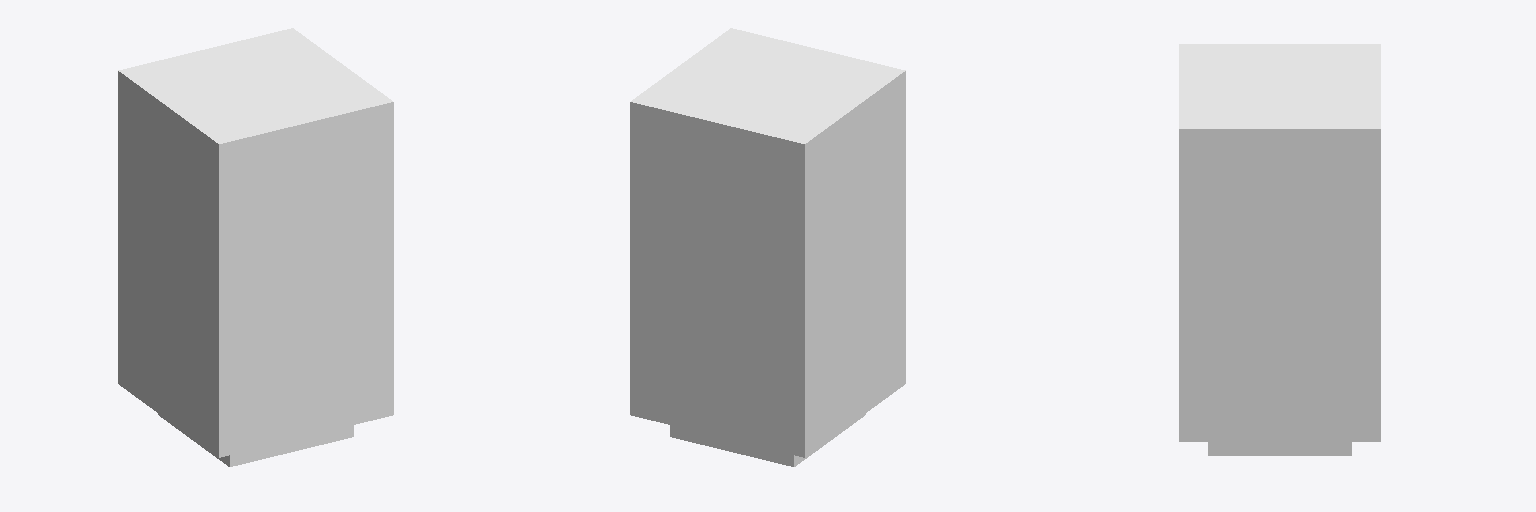
The model's file is FFrightfootdown.obj.
3 views of the same model, side by side, from view 1: azimuth 30°, elevation 25°; view 2: azimuth 150°, elevation 25°; view 3: azimuth 270°, elevation 25° (orthographic).
Parts seen in each view (by area): view 1: object 1; view 2: object 1; view 3: object 1.
Part boxes in pixels (x1,y1,x2,y2): object 1: (118, 28, 393, 466); object 1: (630, 28, 905, 466); object 1: (1179, 44, 1380, 455).
Bounding box in the file's own units: 0.7 × 1.3 × 0.7.